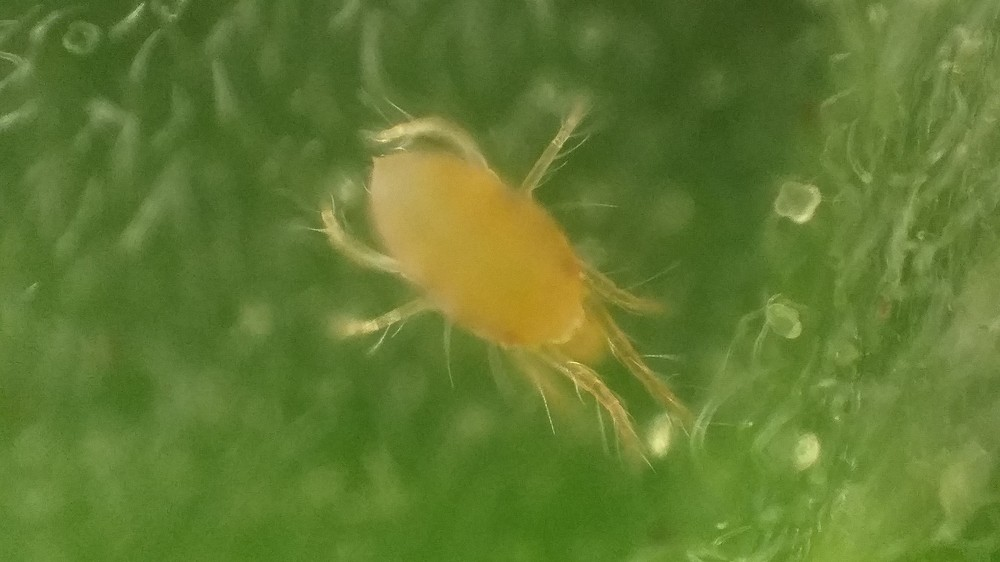Aracnido Rojo: (302, 82, 752, 478)
